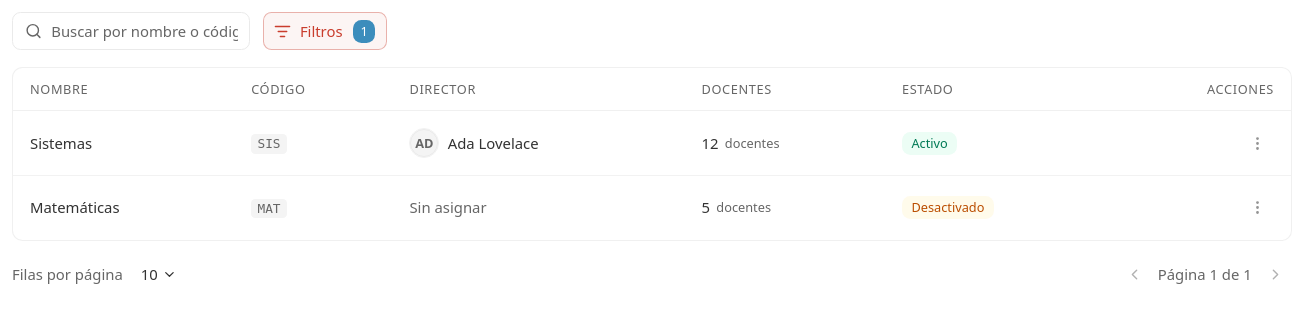
Test: DepartmentsList › offers to unassign on the one that has a director
Click the button named "Acciones" in the row of "Sistemas" at [1257, 143], box x1=1240 y1=126 x2=1274 y2=160
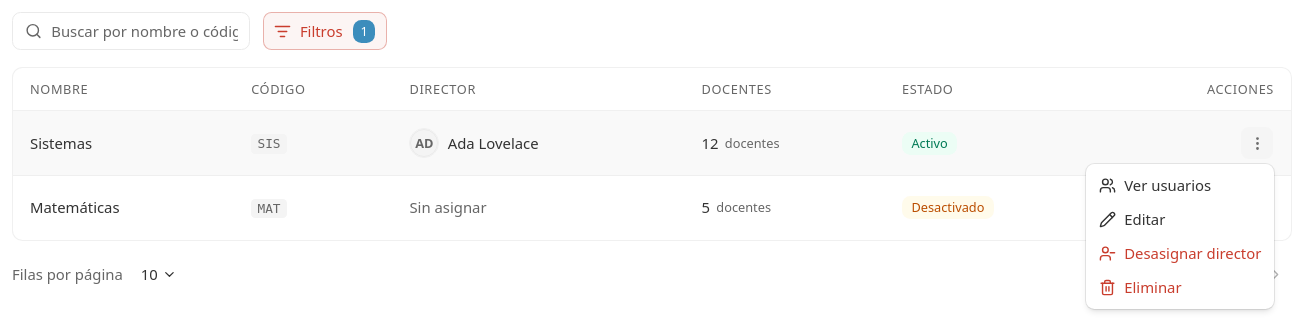
Result: the menu item "Desasignar director" is shown at x1=1099 y1=243 x2=1261 y2=263
